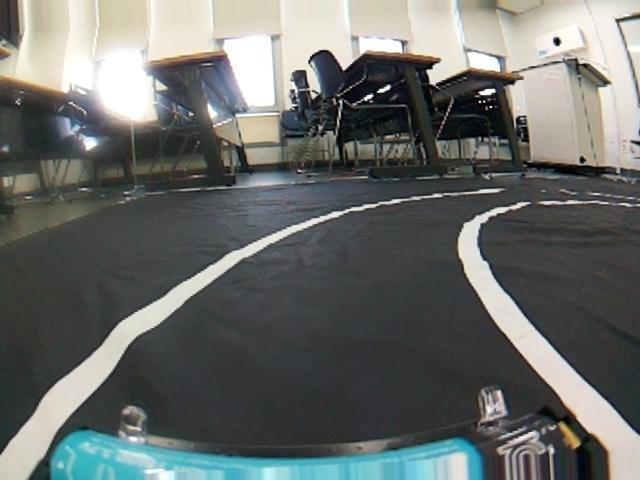straight: (5, 249, 640, 474)
